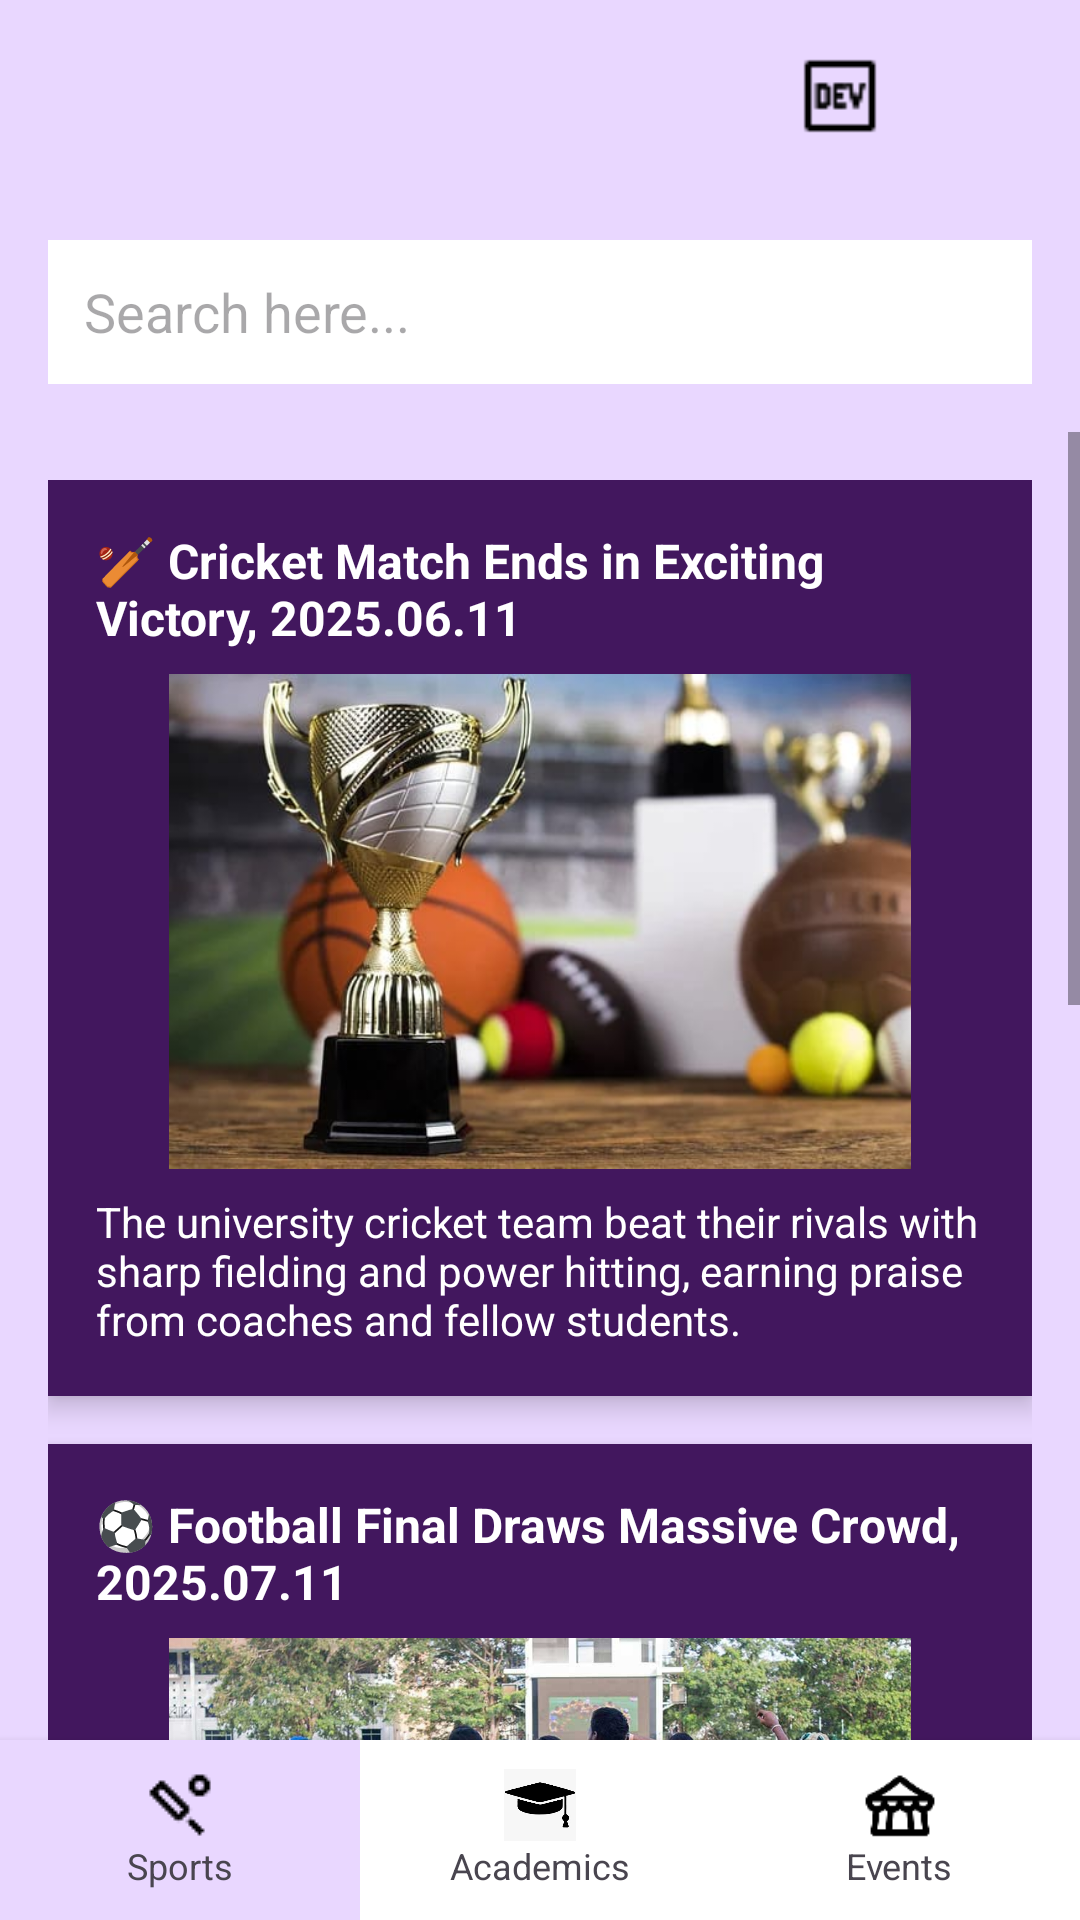

Screen size 1080w x 1920h. Icon name, then its center in pixels as (x,y):
Developer Info: (840,96)
